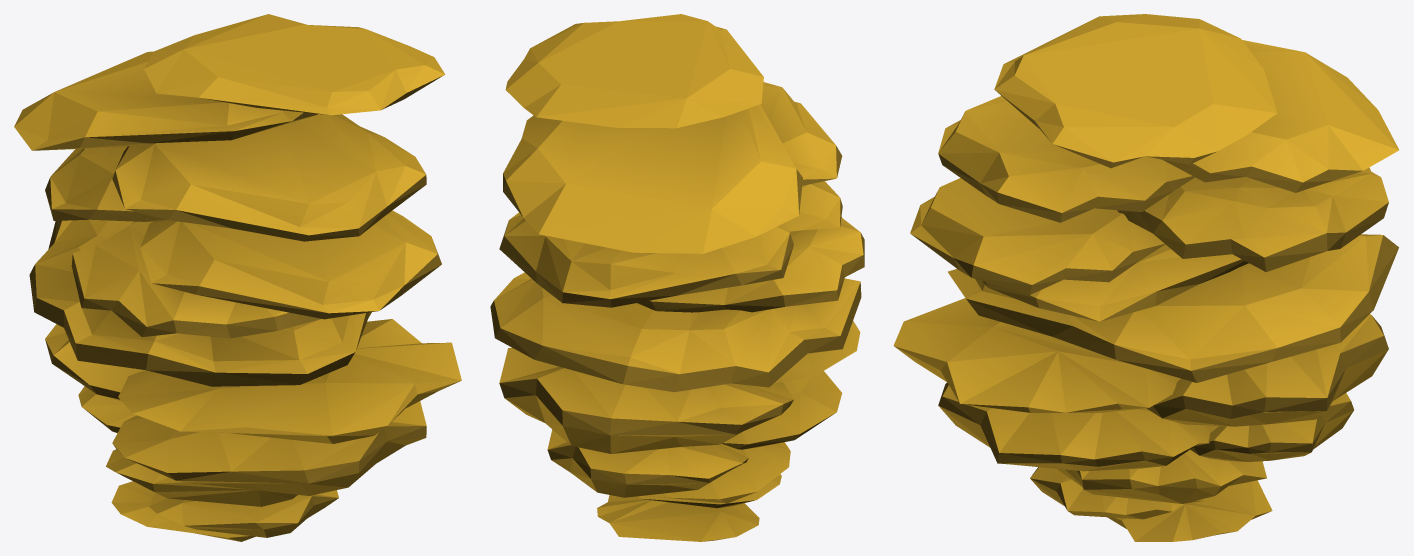
File: swamp_fungus_low.glb
3 views of the same model, side by side, from view 1: azimuth 30°, elevation 25°; view 2: azimuth 150°, elevation 25°; view 3: azimuth 270°, elevation 25° (orthographic). The views are drawn at different scales.
Size of the model in its own units: 0.5424 by 0.7012 by 0.667.
